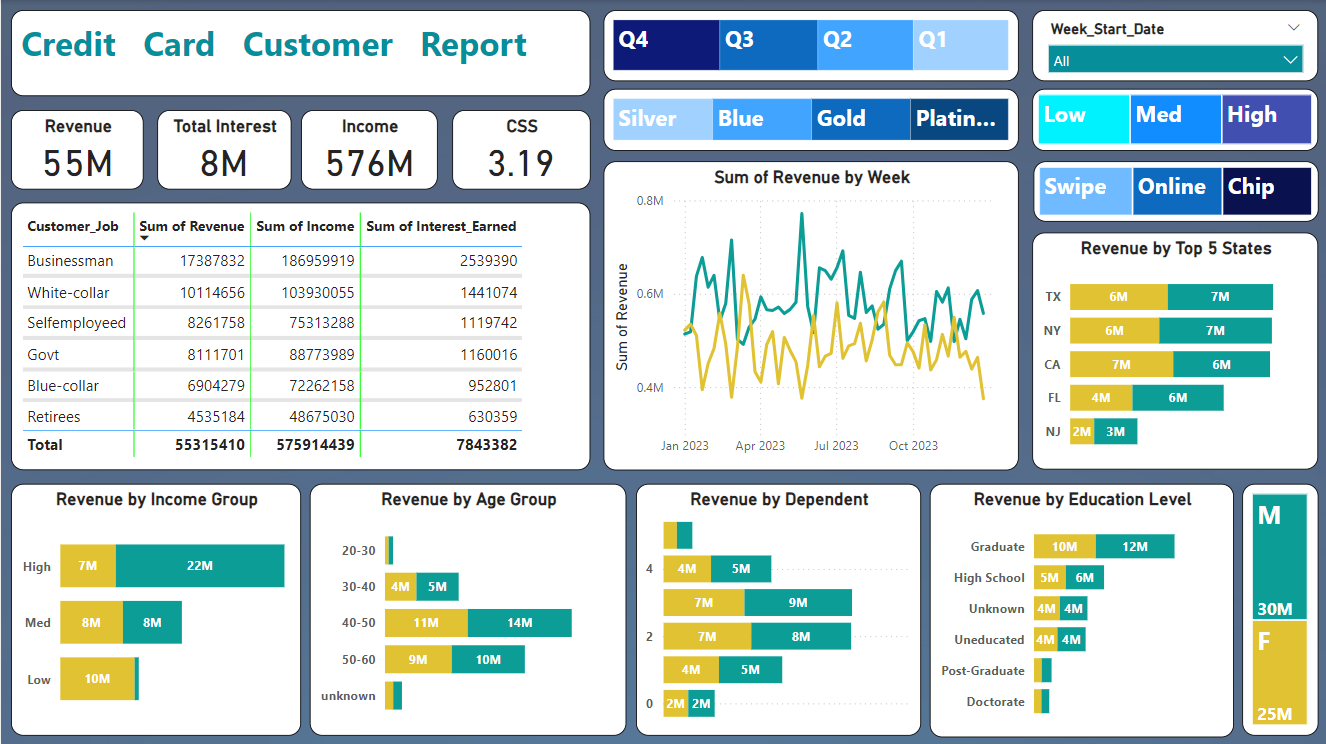

This screenshot's page, from the dashboard's own definition file:
{"tool":"powerbi","page":{"name":"Credit Card Customer","canvas":[1280,720],"ordinal":2},"visuals":[{"type":"textbox","box":[9.8,9.8,558.8,83.1],"z":0},{"type":"barChart","title":"Revenue by Income Group","fields":{"Category":["customer.IncomeGroup"],"Y":["Sum(credit_card.Revenue)"],"Series":["customer.Gender"]},"box":[9.8,467.1,280,243.3],"z":1000},{"type":"tableEx","fields":{"Values":["customer.Customer_Job","Sum(credit_card.Revenue)","Sum(customer.Income)","Sum(credit_card.Interest_Earned)"]},"box":[9.8,195.6,558.8,258],"z":2000},{"type":"card","title":"Revenue","fields":{"Values":["Sum(credit_card.Revenue)"]},"box":[9.8,106.4,128.4,77],"z":3000},{"type":"card","title":"Total Interest","fields":{"Values":["Sum(credit_card.Interest_Earned)"]},"box":[150.4,106.4,129.6,77],"z":4000},{"type":"card","title":"Income","fields":{"Values":["Sum(customer.Income)"]},"box":[289.8,106.4,132.1,77],"z":5000},{"type":"slicer","fields":{"Values":["credit_card.Week_Start_Date"]},"box":[995.3,9.8,276.3,68.5],"z":6000},{"type":"treemap","fields":{"Group":["credit_card.Qtr"],"Values":["CountNonNull(credit_card.Use Chip)","Avg(credit_card.Client_Num)"]},"box":[582,9.8,401.1,68.5],"z":7000},{"type":"treemap","fields":{"Group":["credit_card.Card_Category"],"Values":["CountNonNull(credit_card.Use Chip)","Avg(credit_card.Client_Num)"]},"box":[582,85.6,401.1,59.9],"z":8000},{"type":"treemap","fields":{"Group":["customer.IncomeGroup"],"Values":["CountNonNull(credit_card.Client_Num)"]},"box":[995.3,85.6,276.3,59.9],"z":9000},{"type":"lineChart","title":"Sum of Revenue by Week","fields":{"Y":["Sum(credit_card.Revenue)"],"Series":["customer.Gender"],"Category":["credit_card.Week_Start_Date.Variation.Date Hierarchy.Year","credit_card.Week_Start_Date.Variation.Date Hierarchy.Month","credit_card.Week_Start_Date.Variation.Date Hierarchy.Day"]},"box":[582,155.3,401.1,298.4],"z":10000},{"type":"treemap","fields":{"Group":["customer.Gender"],"Values":["Sum(credit_card.Revenue)"]},"box":[1198.3,467.1,73.4,243.3],"z":11000},{"type":"card","title":"CSS","fields":{"Values":["Avg(customer.Cust_Satisfaction_Score)"]},"box":[435.3,106.4,133.3,77],"z":12000},{"type":"barChart","title":"Revenue by Age Group","fields":{"Category":["customer.AgeGroup"],"Y":["Sum(credit_card.Revenue)"],"Series":["customer.Gender"]},"box":[298.4,467.1,305.7,243.3],"z":13000},{"type":"barChart","title":"Revenue by Dependent","fields":{"Category":["customer.Dependent_Count"],"Y":["Sum(credit_card.Revenue)"],"Series":["customer.Gender"]},"box":[612.6,467.1,275.1,243.3],"z":14000},{"type":"barChart","title":"Revenue by Education Level","fields":{"Category":["customer.Education_Level"],"Y":["Sum(credit_card.Revenue)"],"Series":["customer.Gender"]},"box":[896.3,467.1,293.5,244.6],"z":15000},{"type":"barChart","title":"Revenue by Top 5 States","fields":{"Category":["customer.state_cd"],"Y":["Sum(credit_card.Revenue)"],"Series":["customer.Gender"]},"box":[995.3,225,276.3,228.7],"z":16000},{"type":"treemap","fields":{"Group":["credit_card.Use Chip"],"Values":["CountNonNull(credit_card.Client_Num)"]},"box":[996.6,155.3,275.1,58.7],"z":17000}]}

Visuals, with their boxes in screenshot pixels (x1, y1, x2, y2), scaled from the page's 1280x720 canvas onto the 1326x744 screenshot:
textbox: (left=10, top=10, right=589, bottom=96)
"Revenue by Income Group" barChart: (left=10, top=483, right=300, bottom=734)
tableEx - customer.Customer_Job x Sum(credit_card.Revenue): (left=10, top=202, right=589, bottom=469)
"Revenue" card: (left=10, top=110, right=143, bottom=190)
"Total Interest" card: (left=156, top=110, right=290, bottom=190)
"Income" card: (left=300, top=110, right=437, bottom=190)
slicer - credit_card.Week_Start_Date: (left=1031, top=10, right=1317, bottom=81)
treemap - credit_card.Qtr x CountNonNull(credit_card.Use Chip): (left=603, top=10, right=1018, bottom=81)
treemap - credit_card.Card_Category x CountNonNull(credit_card.Use Chip): (left=603, top=88, right=1018, bottom=150)
treemap - customer.IncomeGroup x CountNonNull(credit_card.Client_Num): (left=1031, top=88, right=1317, bottom=150)
"Sum of Revenue by Week" lineChart: (left=603, top=160, right=1018, bottom=469)
treemap - customer.Gender x Sum(credit_card.Revenue): (left=1241, top=483, right=1317, bottom=734)
"CSS" card: (left=451, top=110, right=589, bottom=190)
"Revenue by Age Group" barChart: (left=309, top=483, right=626, bottom=734)
"Revenue by Dependent" barChart: (left=635, top=483, right=920, bottom=734)
"Revenue by Education Level" barChart: (left=929, top=483, right=1233, bottom=735)
"Revenue by Top 5 States" barChart: (left=1031, top=233, right=1317, bottom=469)
treemap - credit_card.Use Chip x CountNonNull(credit_card.Client_Num): (left=1032, top=160, right=1317, bottom=221)
